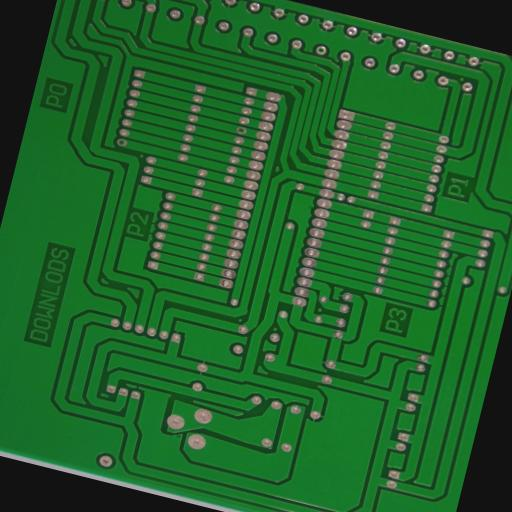missing_hole: (312, 44, 327, 58), (112, 136, 126, 150), (232, 126, 248, 136)
